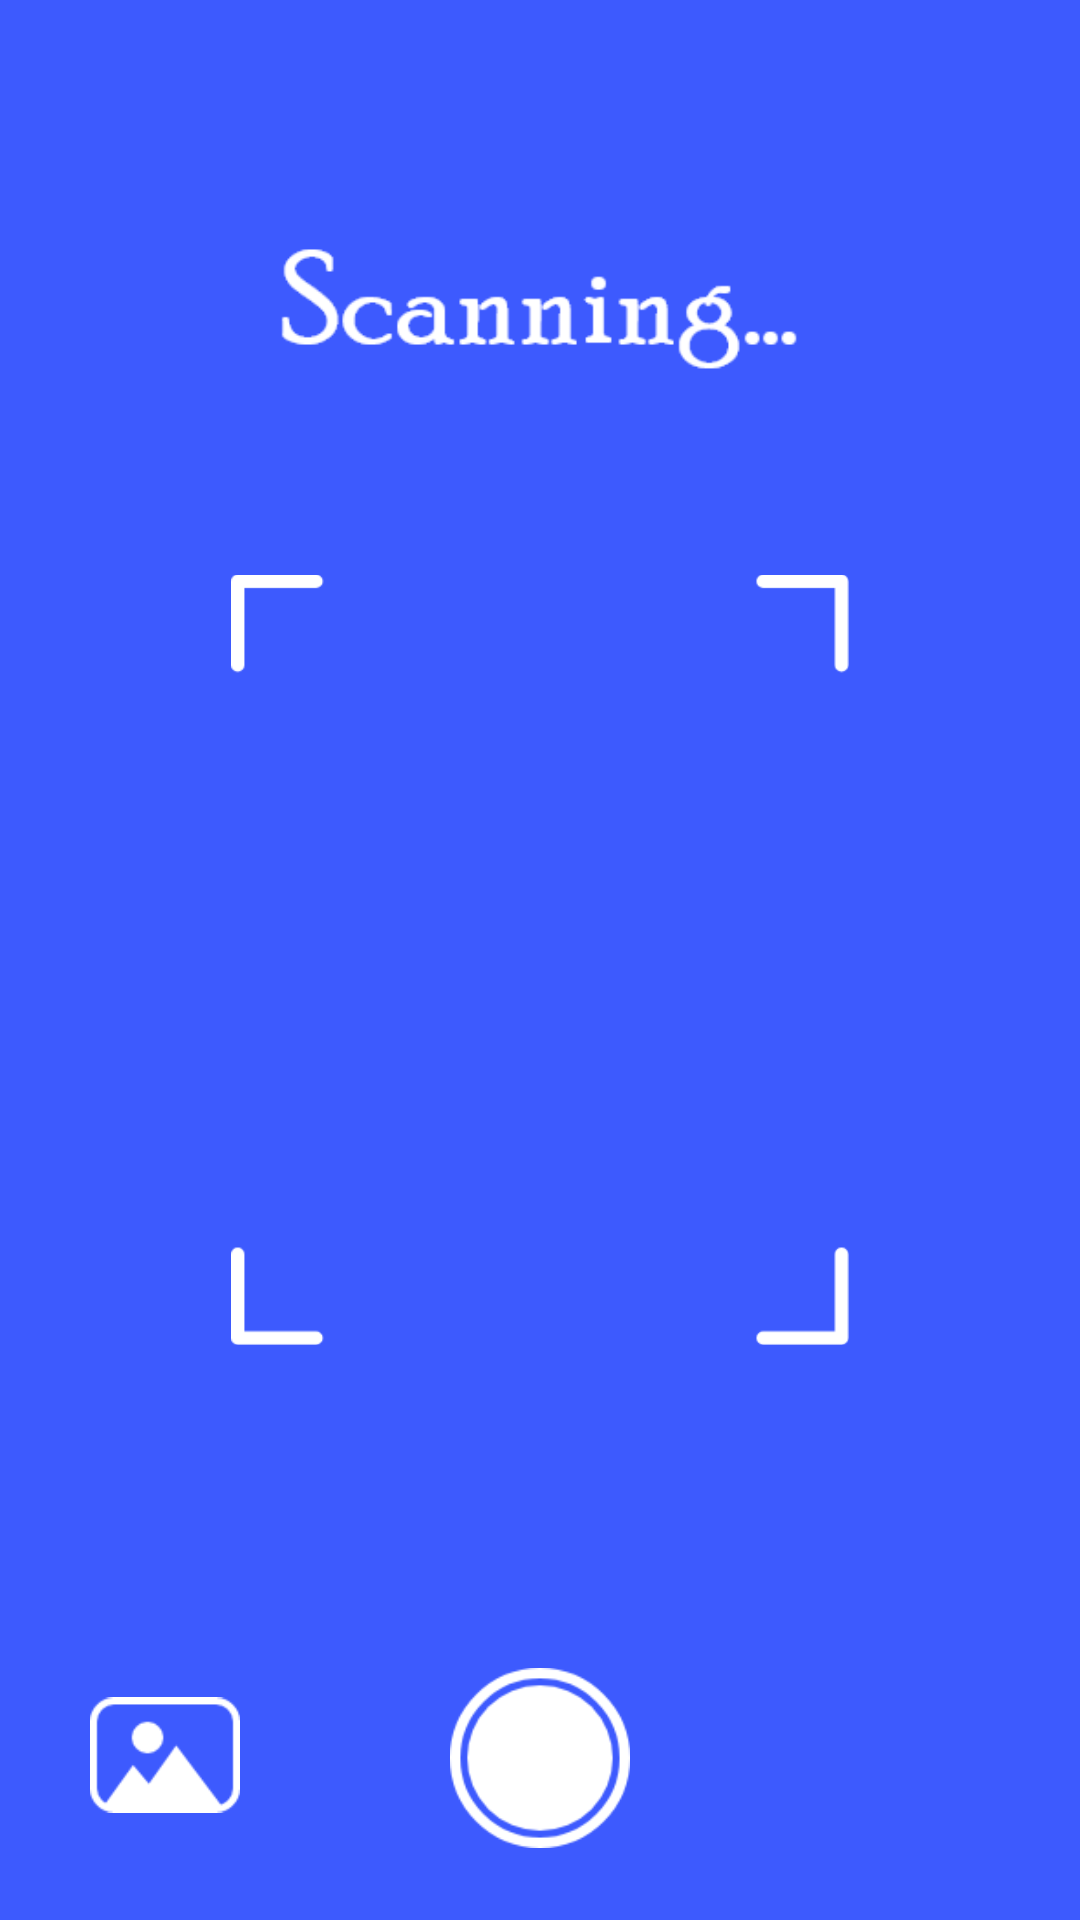

Icon bounding boxes for this 1080w x 1920h phone screenshot, format [x1=x1, y1=y1, x2=x2, y2=y2]:
camerabtn: [x1=450, y1=1668, x2=630, y2=1848]
galleryicon: [x1=90, y1=1697, x2=240, y2=1813]
